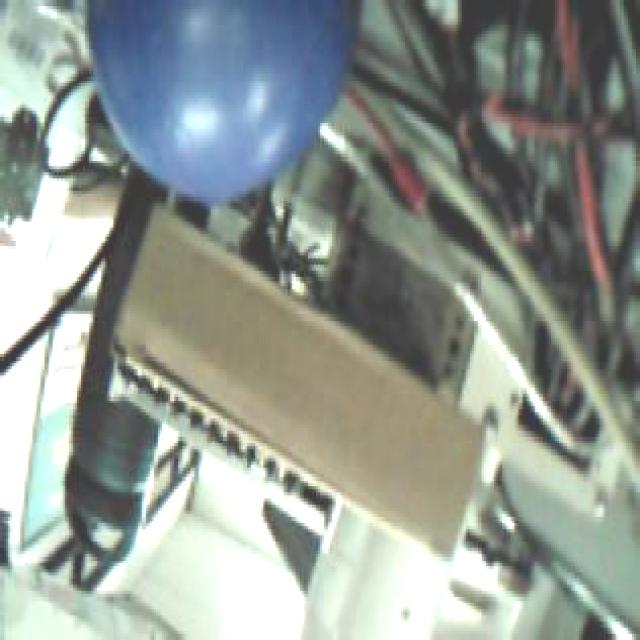BallPurple: (81, 0, 363, 206)
